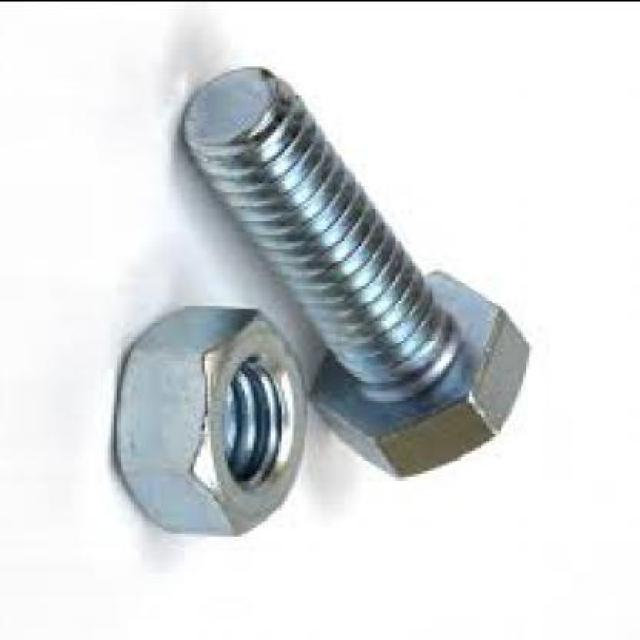METAL: (182, 68, 536, 481), (116, 307, 310, 541)
